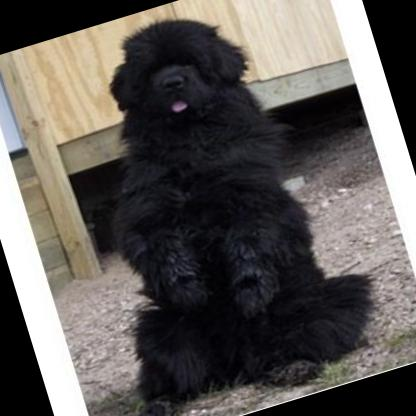Newfoundland: (24, 0, 388, 416)
